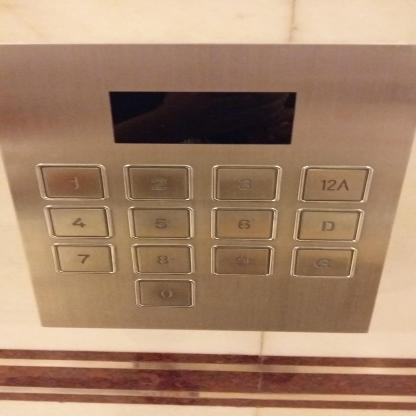0: (131, 277, 199, 310)
1: (32, 162, 112, 201)
12A: (297, 163, 373, 204)
2: (120, 162, 195, 202)
3: (209, 163, 283, 202)
4: (43, 204, 113, 240)
5: (126, 204, 196, 242)
6: (209, 206, 279, 242)
7: (50, 241, 119, 276)
8: (128, 242, 198, 276)
9: (207, 243, 277, 278)
D: (289, 207, 366, 243)
G: (288, 245, 358, 280)
led: (105, 88, 299, 147)
